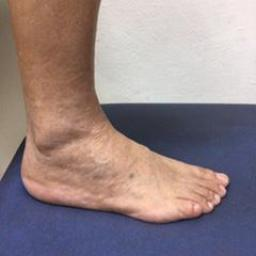Lateral View -Right Foot-: (12, 98, 234, 233)
